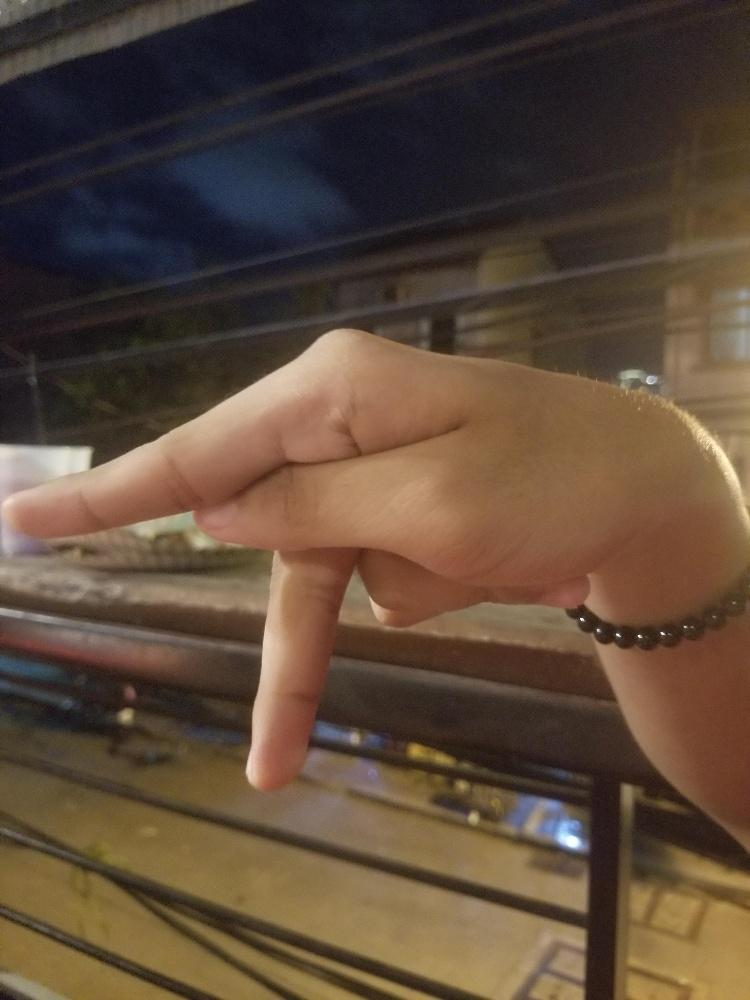p: (0, 323, 699, 793)
